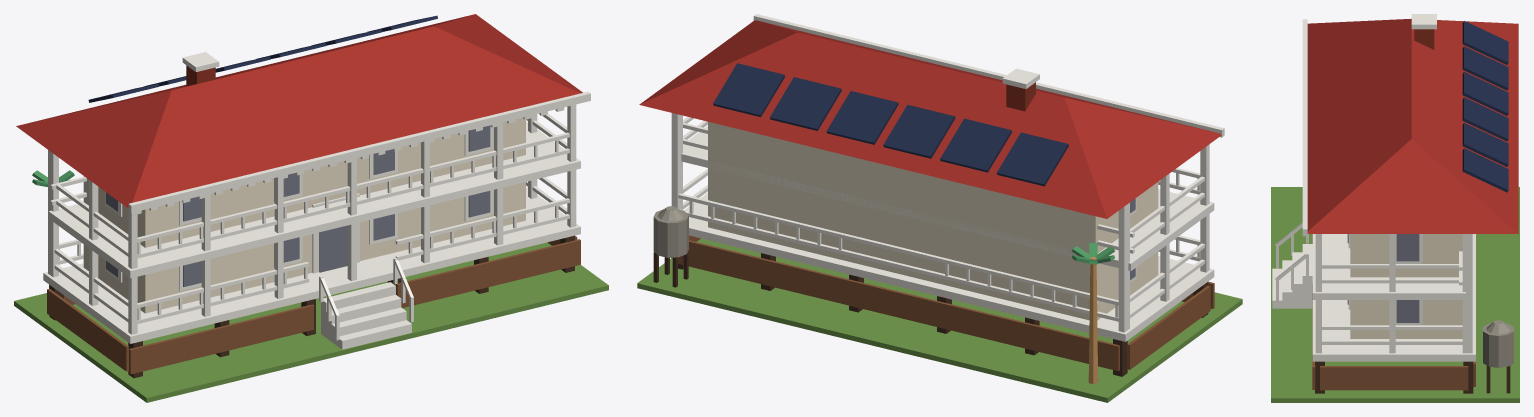
Rendered from house-2x1-2f-third-queenslander-a-solar.glb.
3 renders of one model, left to right at view 1: azimuth 30°, elevation 25°; view 2: azimuth 150°, elevation 25°; view 3: azimuth 270°, elevation 25°, orthographic. The views are drawn at different scales.
Visible parts, largest first — view 1: house-2x1-2f-third-queenslander-a-solar; view 2: house-2x1-2f-third-queenslander-a-solar; view 3: house-2x1-2f-third-queenslander-a-solar.
Part boxes in pixels (box(x1,y1,x2,y2)): house-2x1-2f-third-queenslander-a-solar: box(14, 14, 608, 402); house-2x1-2f-third-queenslander-a-solar: box(637, 14, 1242, 402); house-2x1-2f-third-queenslander-a-solar: box(1271, 14, 1519, 402).
Bounding box in the file's own units: 1.99 × 1.03 × 0.99.
Materials: 1 (1 with a texture image).
